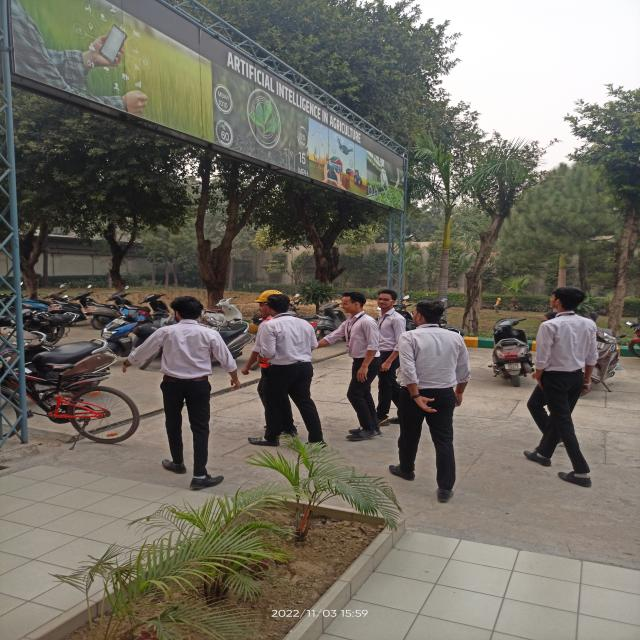unsafe: (141, 299, 238, 496), (524, 284, 602, 490), (404, 302, 468, 504), (253, 301, 330, 448), (326, 293, 383, 444), (372, 290, 404, 427)
